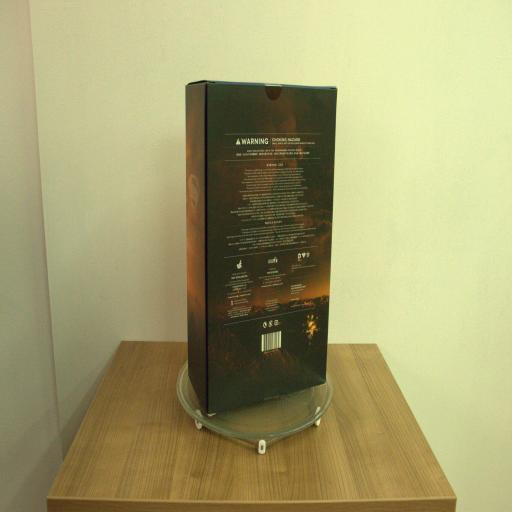superman: (186, 78, 338, 415)
